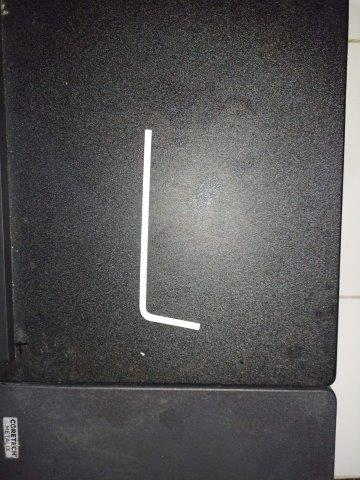sedotan: (138, 130, 201, 330)
